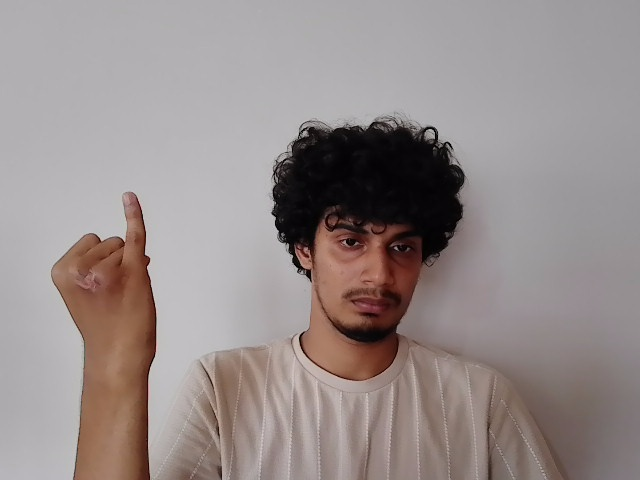bad: (51, 190, 159, 356)
